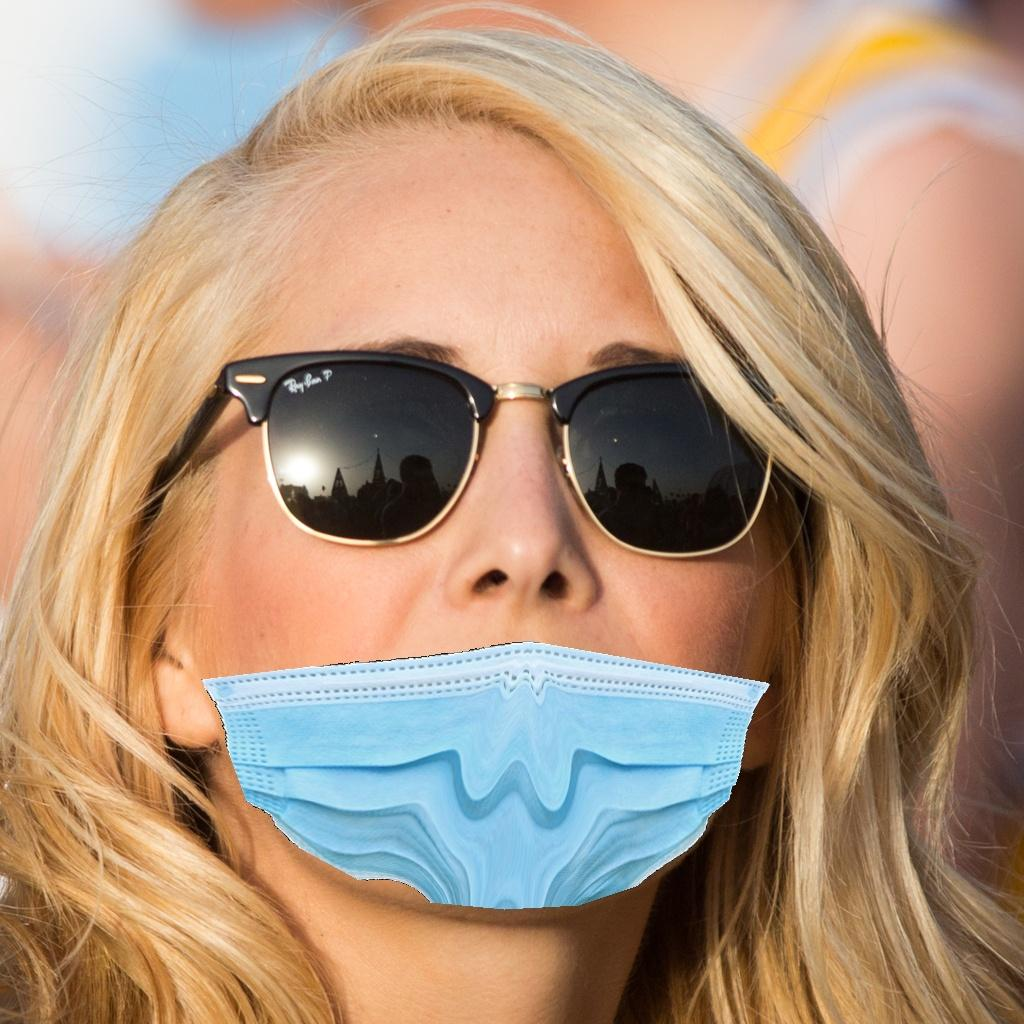Máscara Incorreta: (175, 235, 764, 901)
